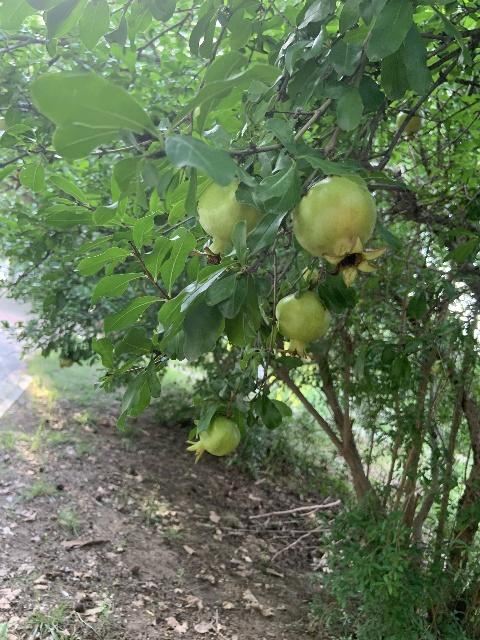mid-growth: (292, 175, 389, 287), (188, 178, 262, 265), (276, 291, 331, 359), (185, 415, 240, 464), (396, 109, 424, 139)
